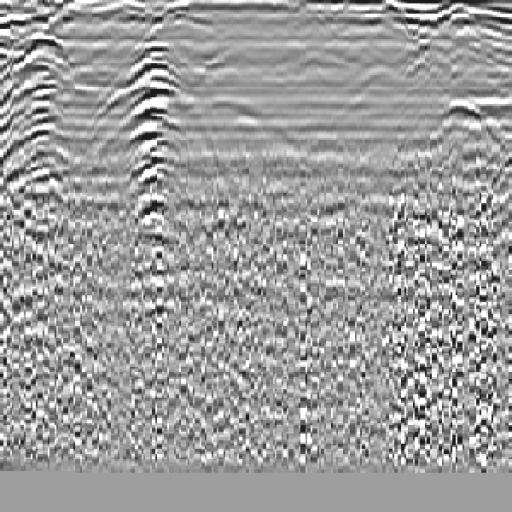metalic: (81, 35, 236, 270)
